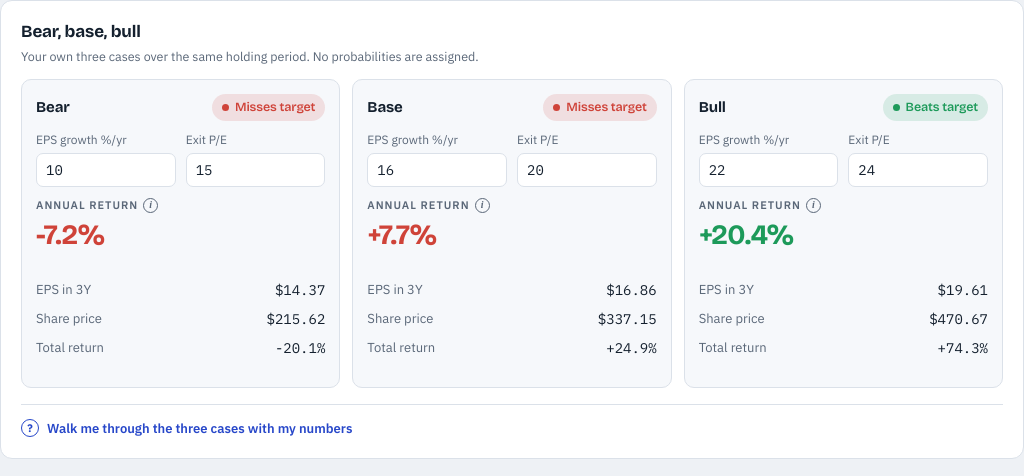
Scenario: ScenariosPanel › recomputes a case when the user types an exit P/E
Step 1. Replace the text in the number field labelled "Exit P/E" below "Beats target" with "12" → [918, 170], box [848,153,988,187]
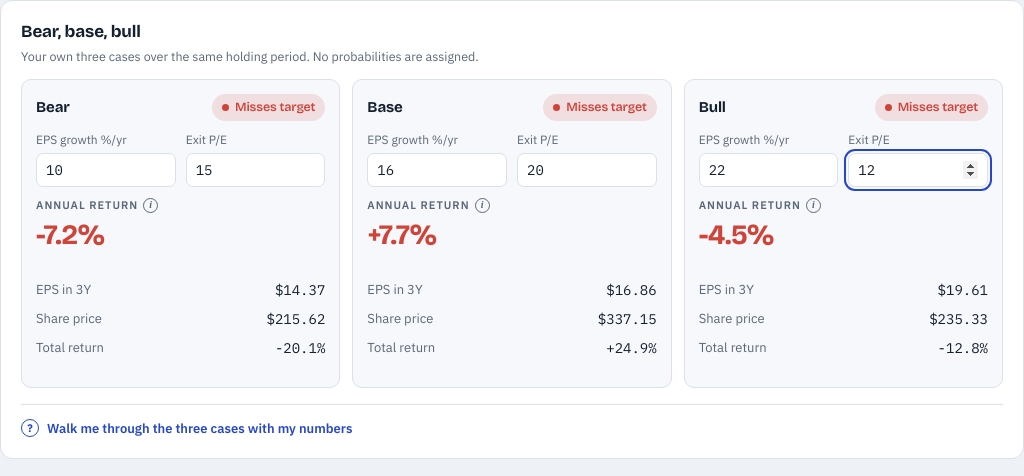
Expected: the 3rd text "Misses target" is shown, [875,94,988,121]
